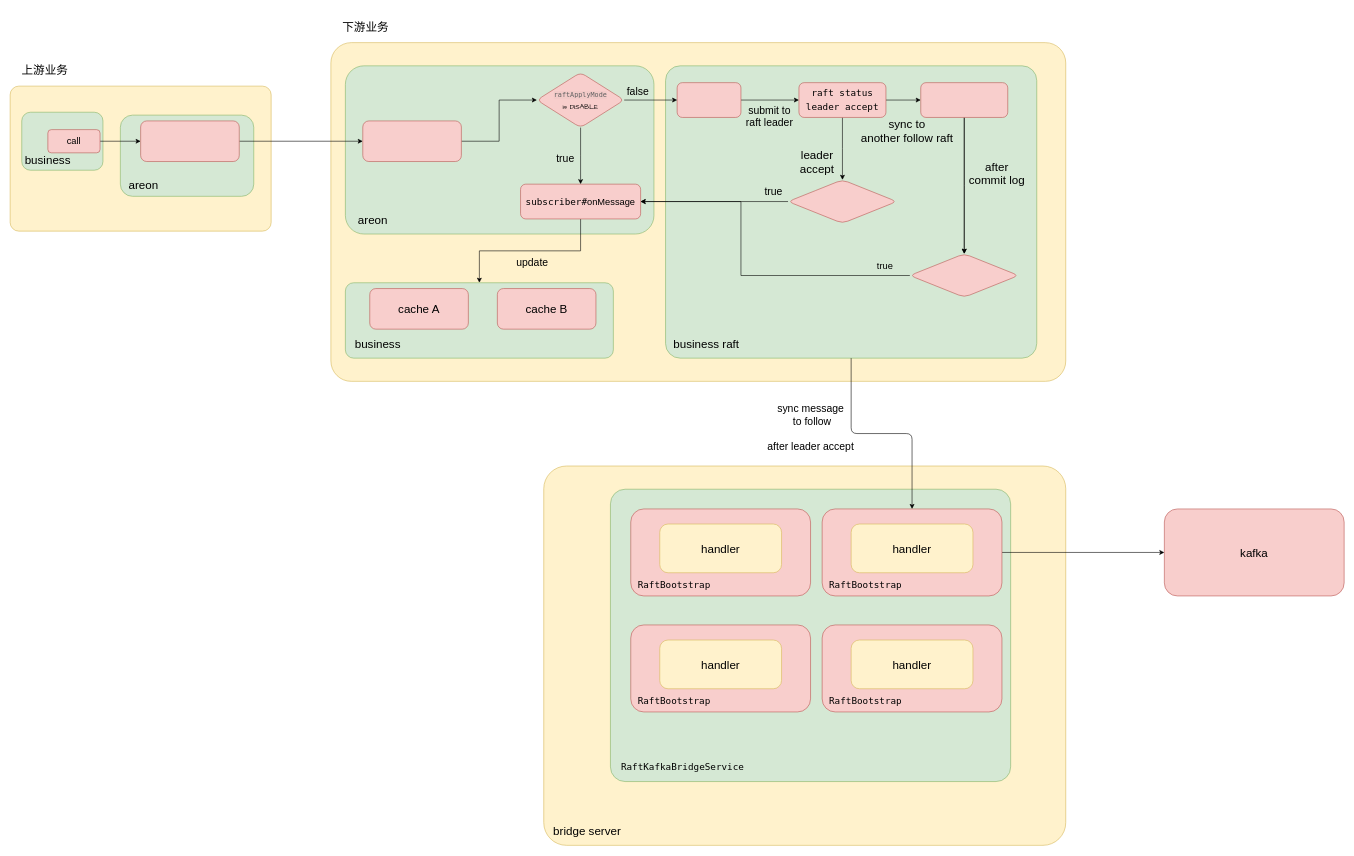
The diagram is 1354 pixels wide and 856 high, and some of its shapes have lost their labels. The shapes that lost their labels are listed below. From the top down, each one's box as (x1, y1, x2, y2) in pixels, then its label:
(677, 82, 741, 117): raft#apply
(920, 82, 1008, 117): raft status commit
(140, 120, 239, 162): publication#offer
(362, 120, 461, 162): subscription#poll
(787, 179, 897, 223): raftApplyMode is ON_AERON_POLL
(909, 253, 1019, 297): raftApplyMode is AFTER_COMMIT
